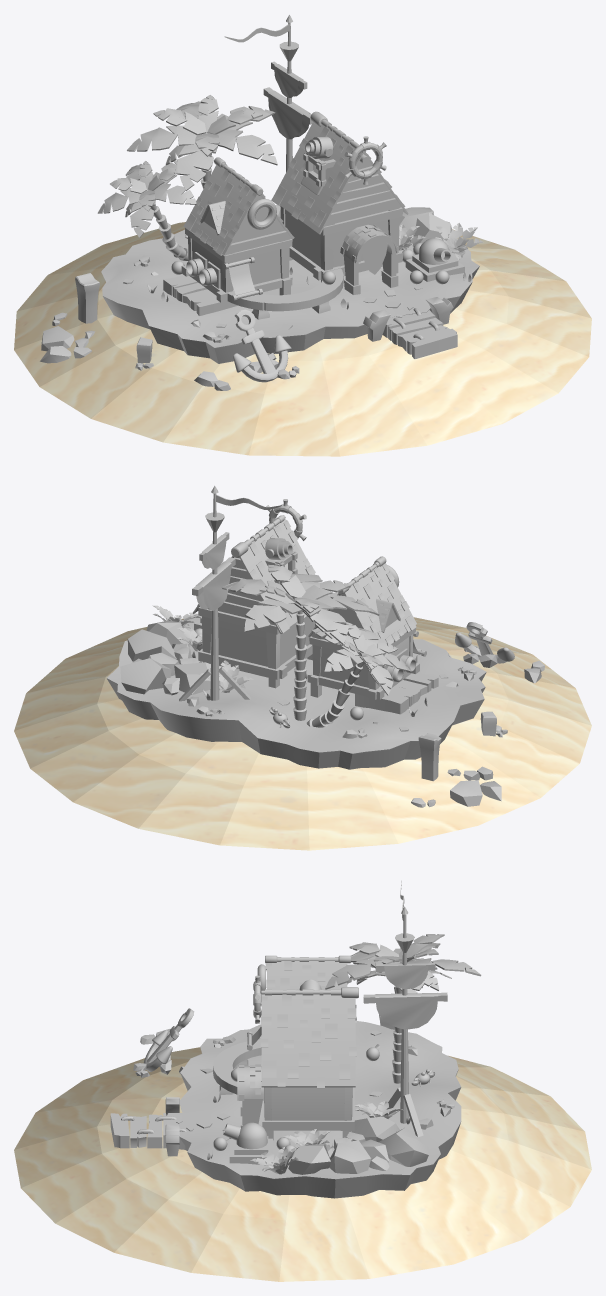
The model's file is penguin land.fbx.
The picture shows the model from 3 angles, top to bottom: view 1: azimuth 30°, elevation 25°; view 2: azimuth 150°, elevation 25°; view 3: azimuth 270°, elevation 25°; orthographic projection.
Parts seen in each view (by area): view 1: penguin land, sand; view 2: penguin land, sand; view 3: sand, penguin land.
Boxes of the visible parts, x1,y1,x2,y2 form: penguin land: [40, 15, 483, 390]; sand: [14, 222, 591, 456]; penguin land: [106, 485, 544, 807]; sand: [14, 617, 591, 850]; sand: [14, 1047, 591, 1281]; penguin land: [110, 880, 481, 1198].
Size of the model in its own units: 1901 by 1901 by 988.
